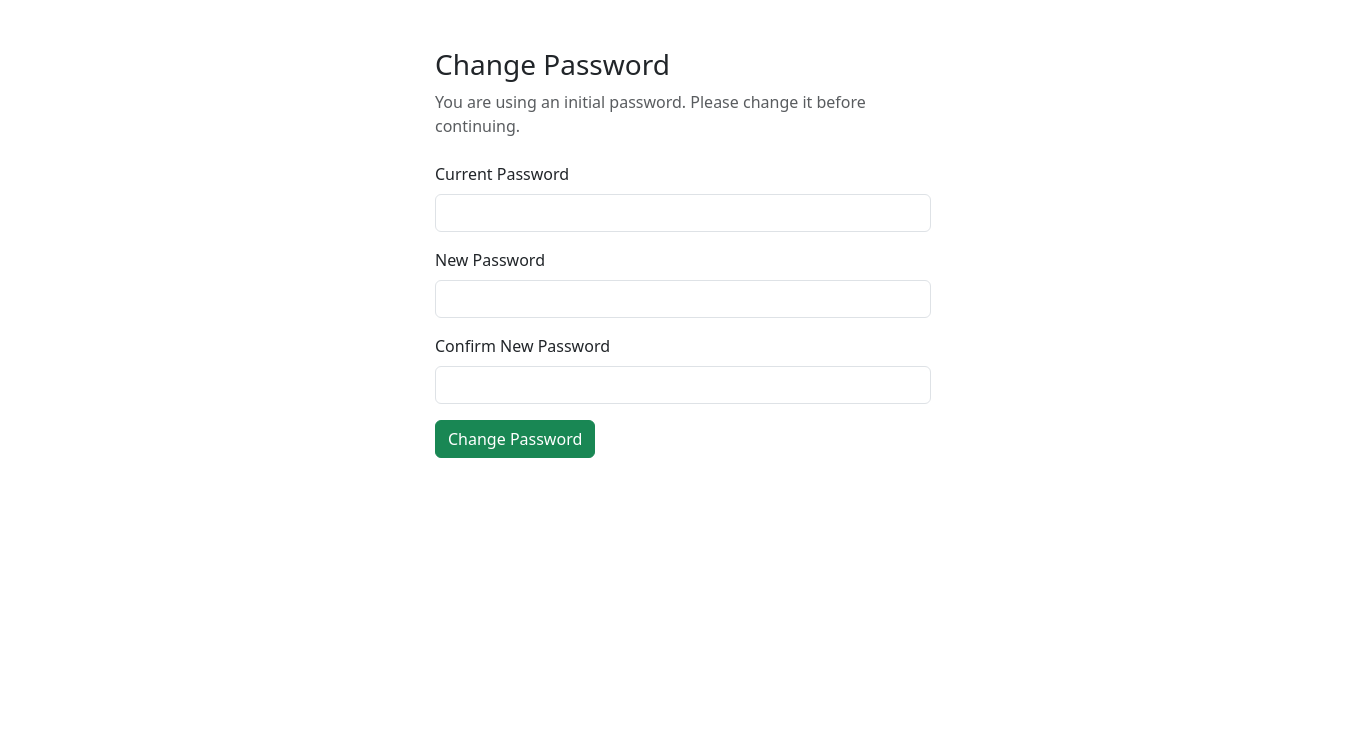
it: Authenticated Requester identity replaces selection › uses the same initial-password screen for Requesters and opens tickets after changing
The image size is (1366, 756).
Expected: the heading "Change Password" is shown, [435, 45, 670, 83]
Expected: the button "My Tickets" is not shown
Type "Password123!" into the password field labelled "Current Password" at (683, 213), box [435, 194, 931, 232]
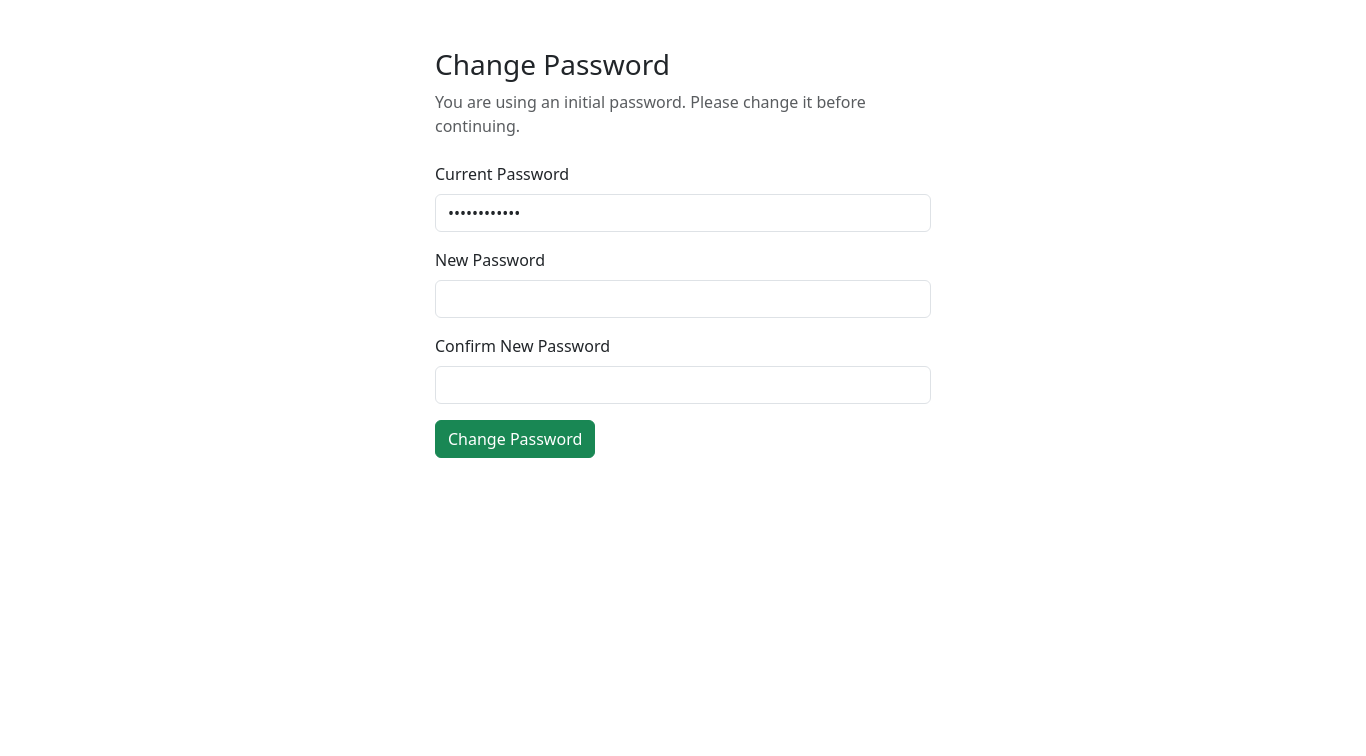
Type "NewRequester123!" into the password field labelled "New Password" at (683, 299), box [435, 280, 931, 318]
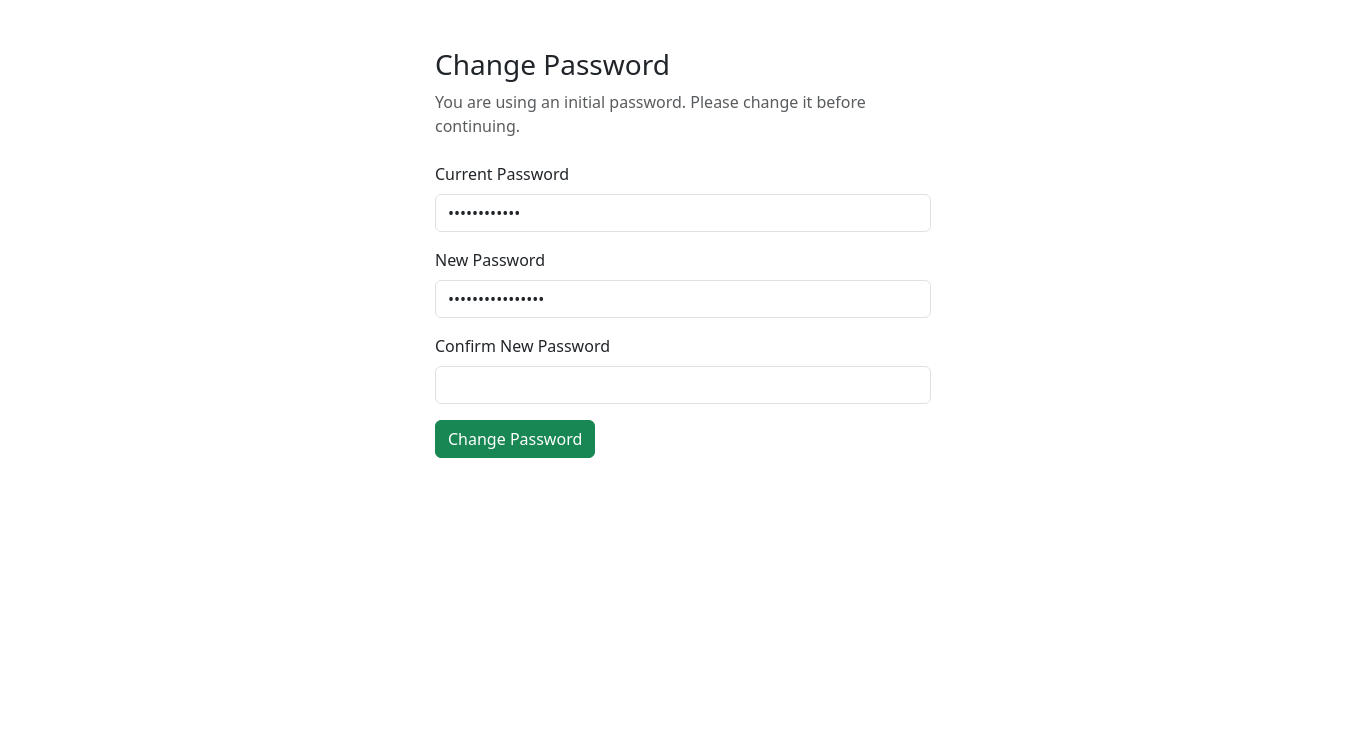
Type "different" into the password field labelled "Confirm New Password" at (683, 385), box [435, 366, 931, 404]
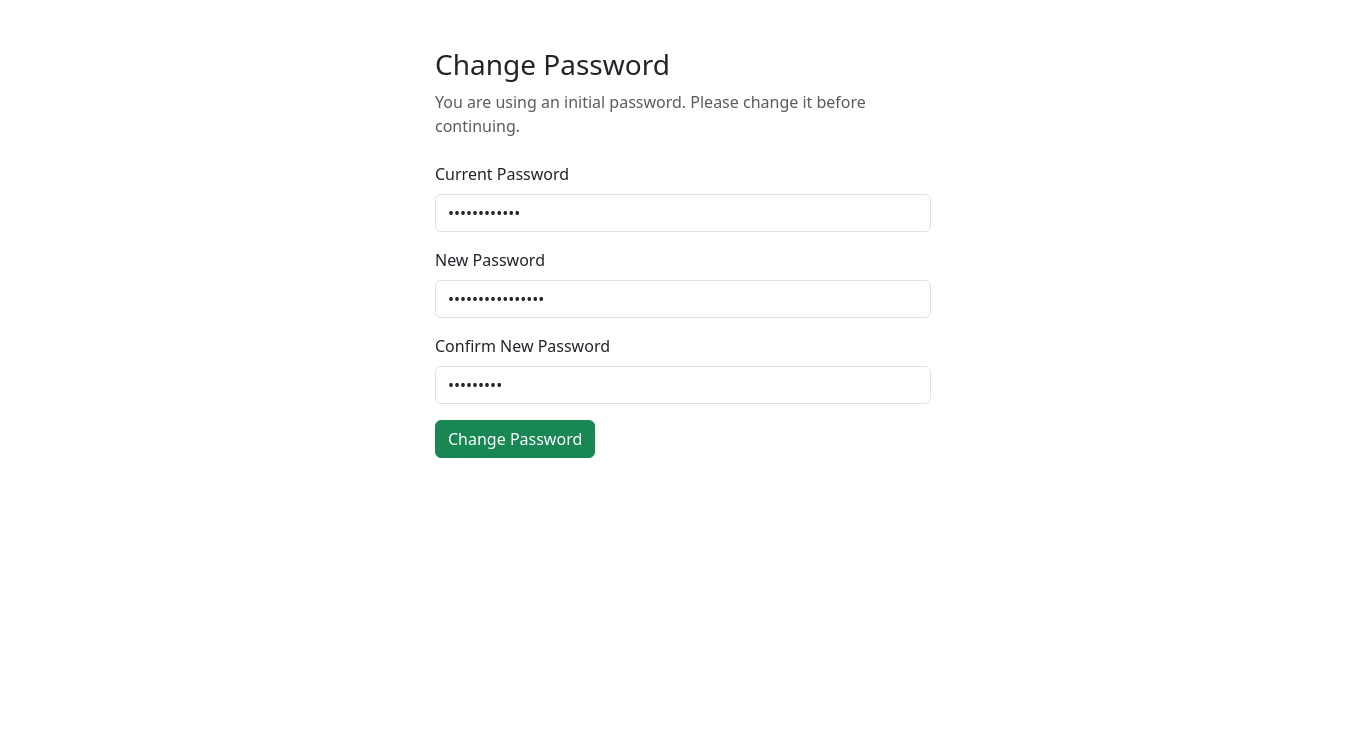
Click the button "Change Password" at (515, 439), box [435, 420, 595, 458]
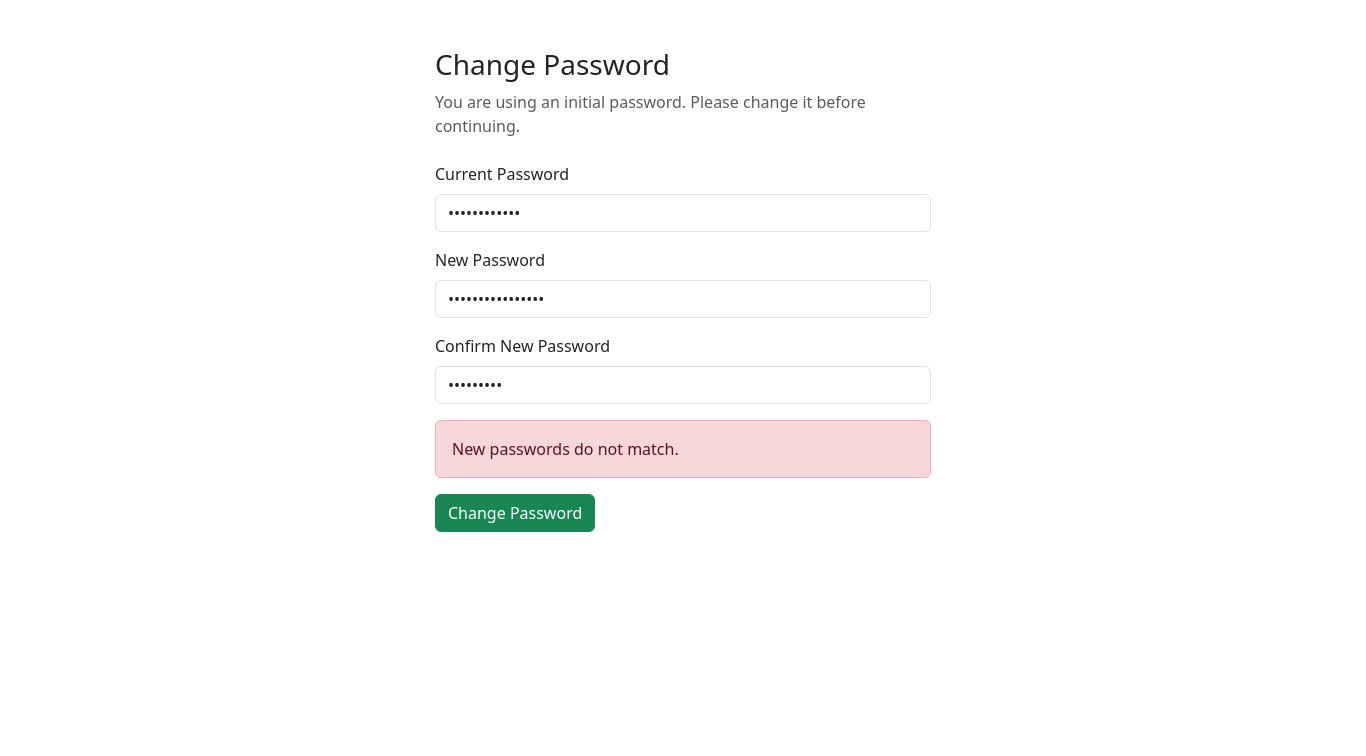
Now the message reads "New passwords do not match.", box [452, 438, 679, 460]
Type "NewRequester123!" into the password field labelled "Confirm New Password" at (683, 385), box [435, 366, 931, 404]
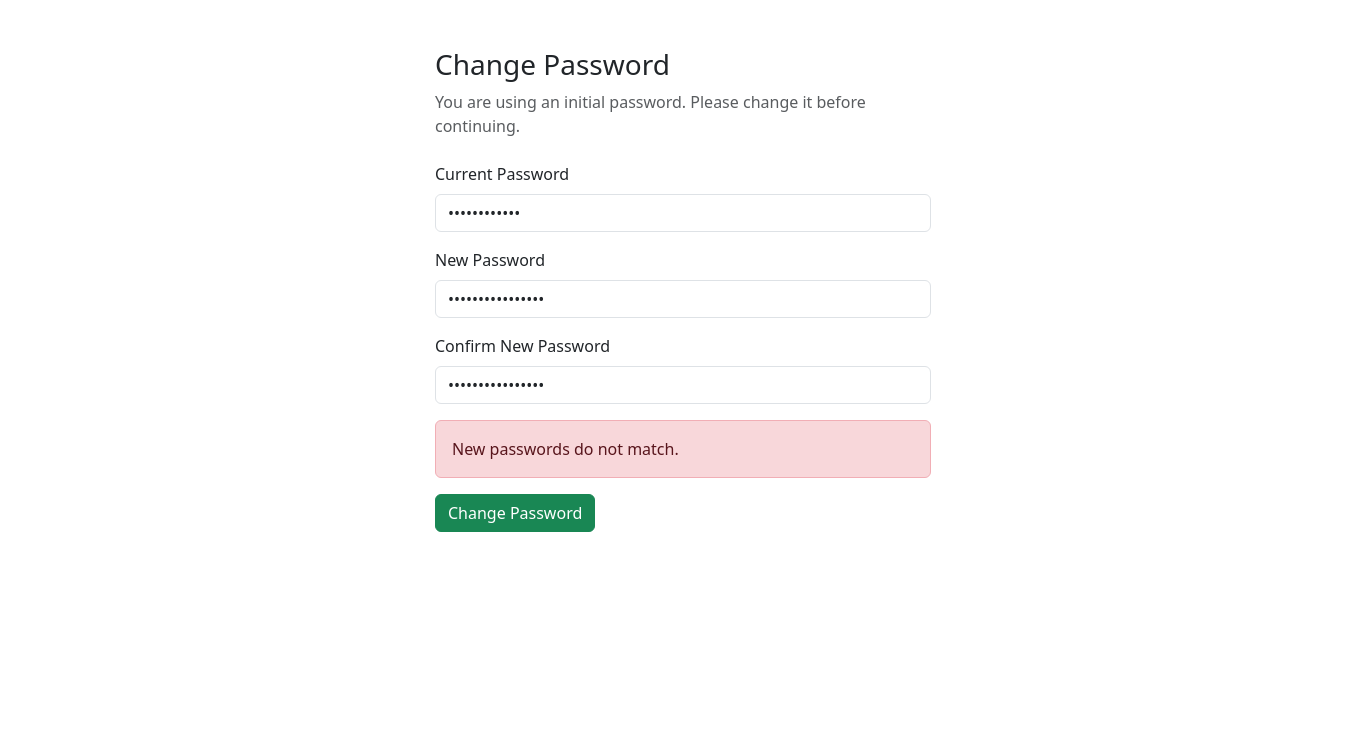
Click the button "Change Password" at (515, 513), box [435, 494, 595, 532]
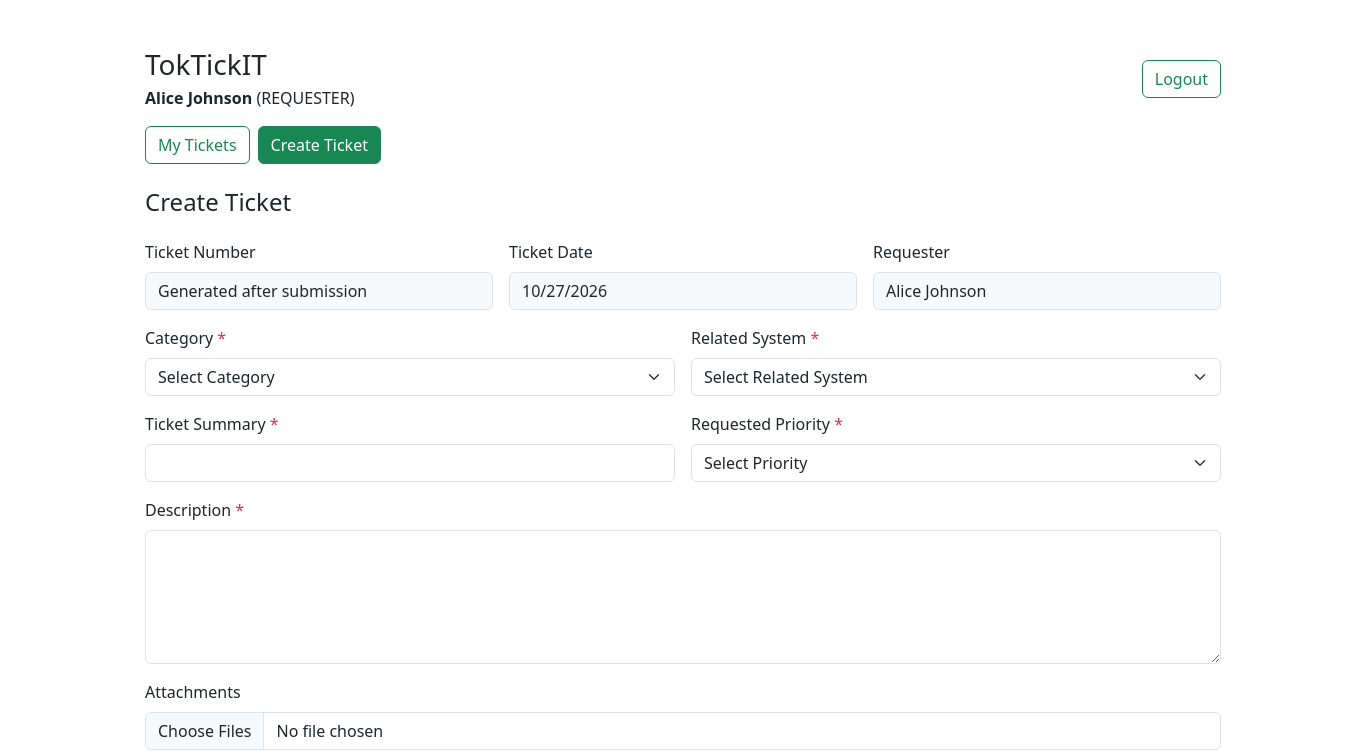
Now the heading "Create Ticket" is shown, box [145, 185, 291, 218]
